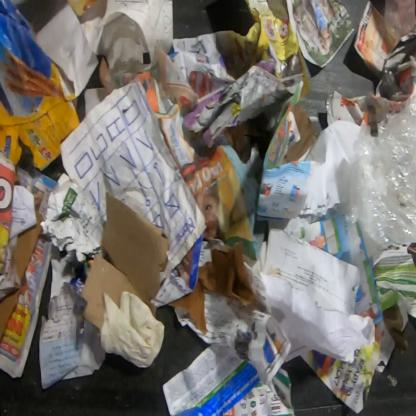cardboard: (0, 0, 100, 173), (79, 188, 170, 332), (214, 132, 268, 262), (242, 0, 300, 62), (11, 204, 44, 286), (0, 288, 21, 344)
soft_plastic: (334, 69, 415, 251), (383, 0, 415, 54)
